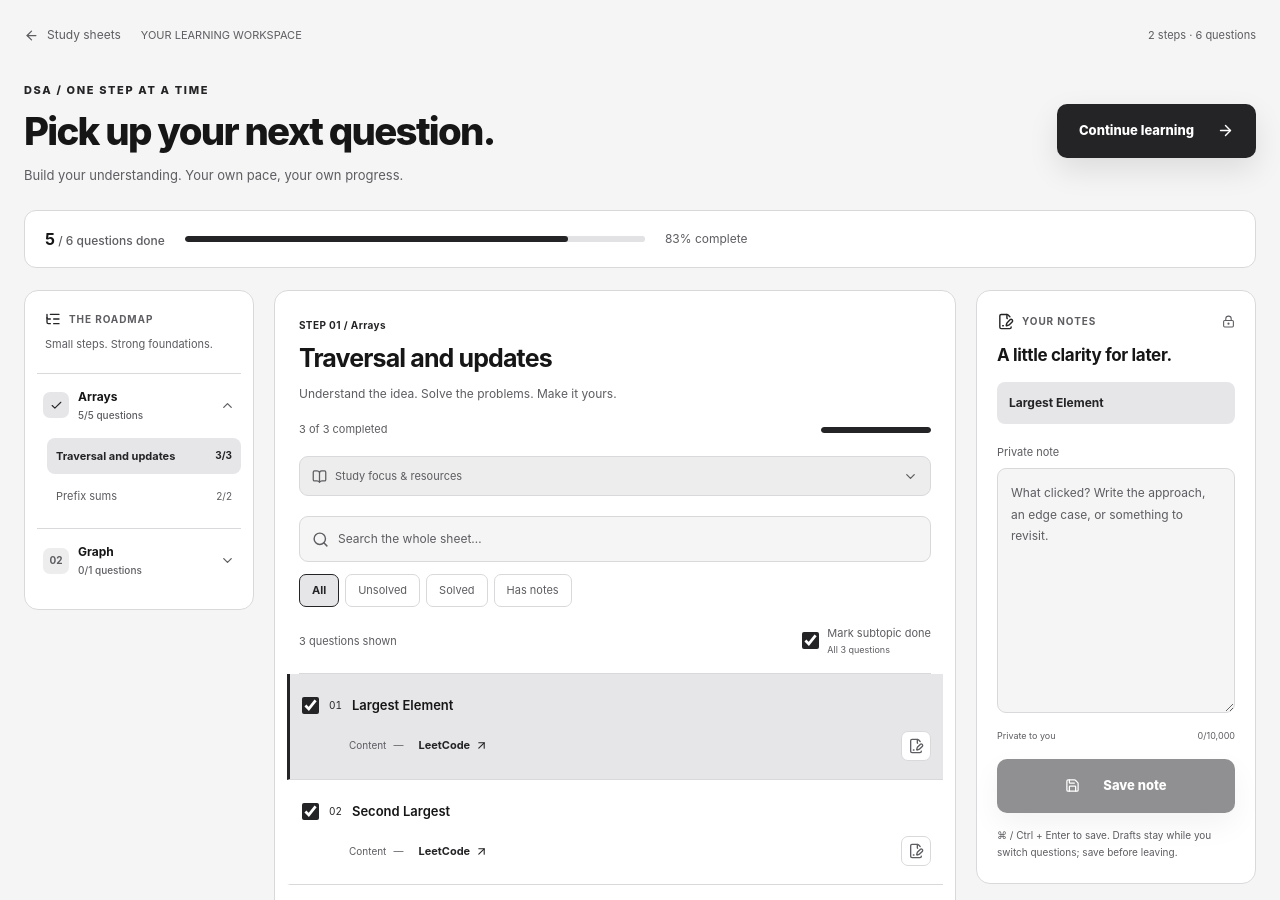
Learning Workspace › opens the first unfinished question across steps and stores selection in the URL
Expected: the checkbox named "Mark Largest Element complete" is enabled, [302,697,319,714]
Click the button "Continue learning".
click(1156, 131)  # box [1057,104,1256,158]
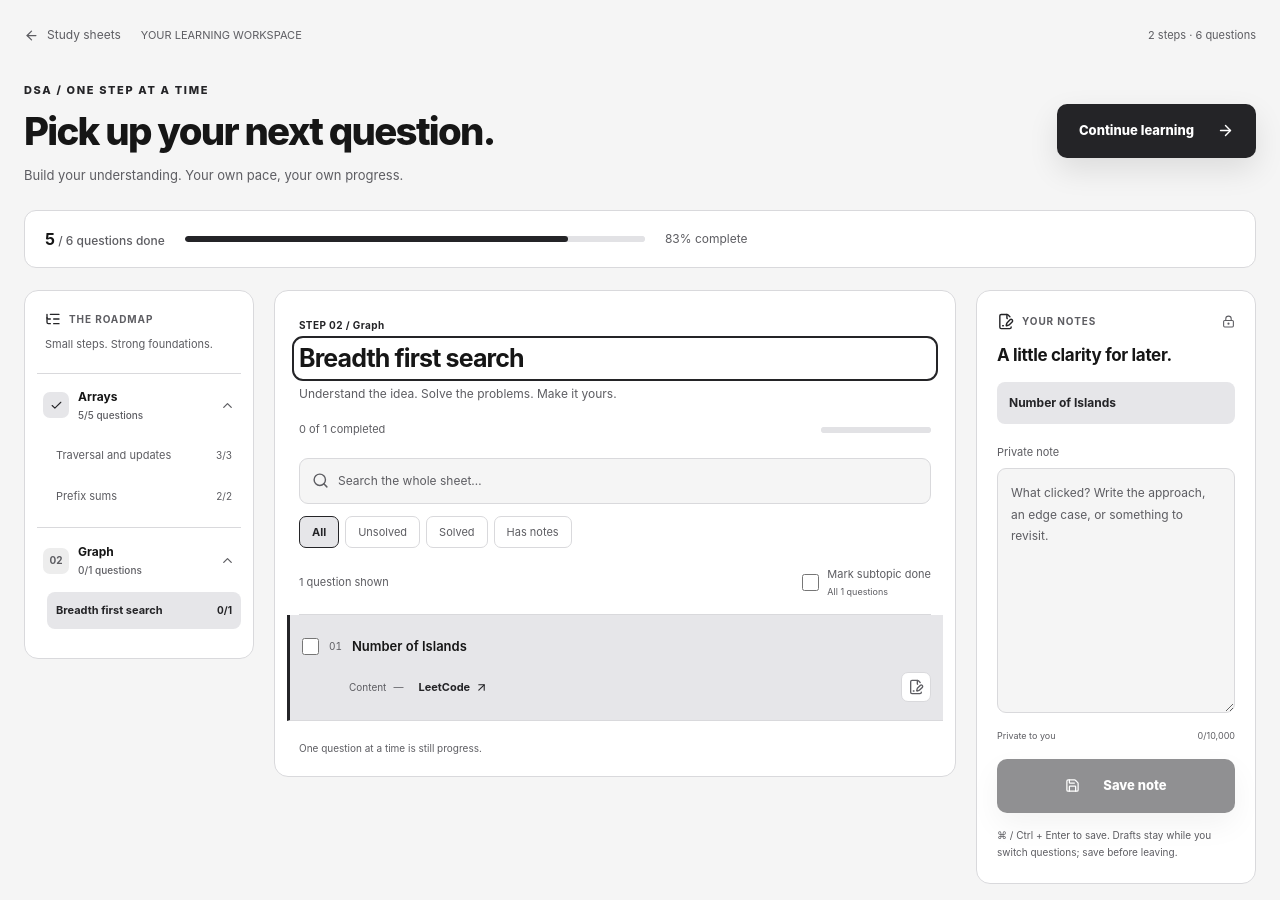
Expected: the heading "Breadth first search" is shown, [299,343,524,373]
